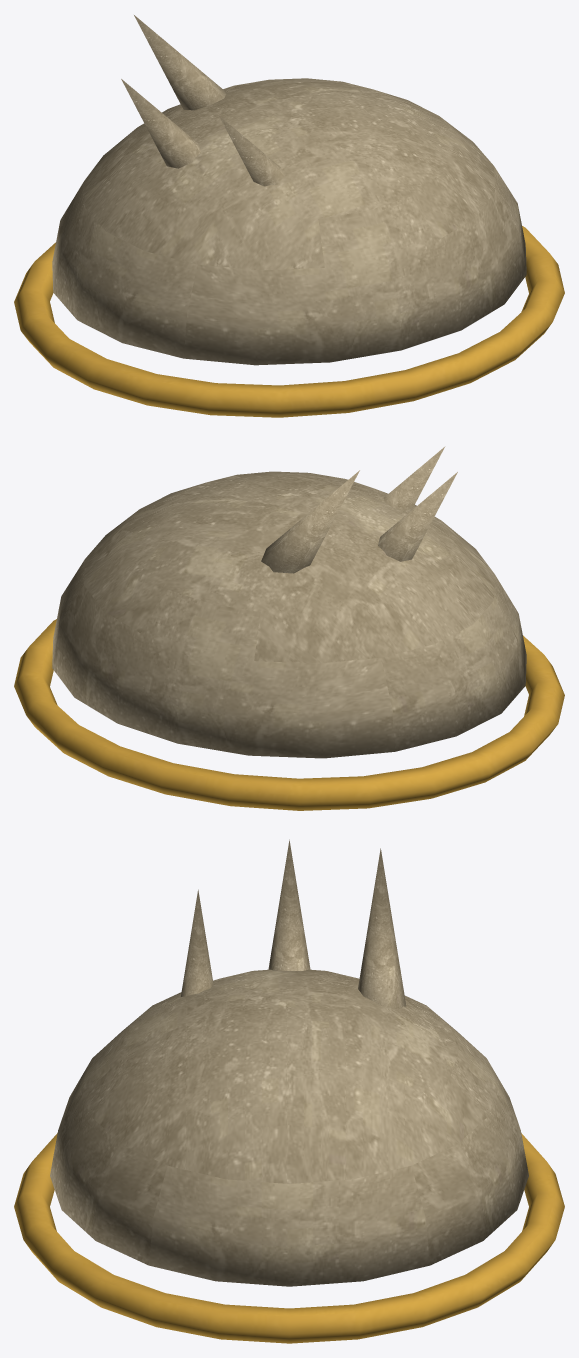
File: hm_king_pauldron_right.glb
3 views of the same model, one above another, from view 1: azimuth 30°, elevation 25°; view 2: azimuth 150°, elevation 25°; view 3: azimuth 270°, elevation 25° (orthographic). The views are drawn at different scales.
Visible parts, largest first — view 1: king_pauldron_right; view 2: king_pauldron_right; view 3: king_pauldron_right.
Part boxes in pixels (box(x1,y1,x2,y2)): king_pauldron_right: box(14, 15, 564, 417); king_pauldron_right: box(14, 446, 564, 810); king_pauldron_right: box(14, 839, 564, 1343).
Bounding box in the file's own units: 0.529 × 0.3031 × 0.483.
Materials: 1 (1 with a texture image).
